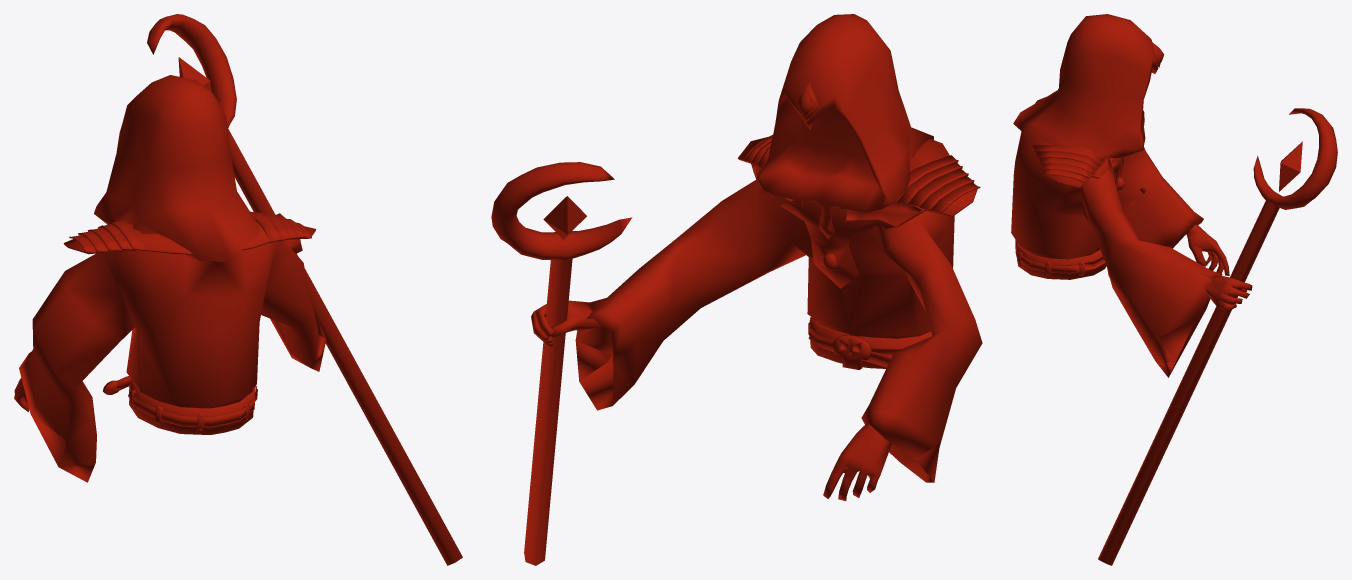
The model's file is top_000045.obj.
3 views of the same model, side by side, from view 1: azimuth 30°, elevation 25°; view 2: azimuth 150°, elevation 25°; view 3: azimuth 270°, elevation 25° (orthographic). The views are drawn at different scales.
Visible parts, largest first — view 1: LowPoly_Warlock.000_Plane.005; view 2: LowPoly_Warlock.000_Plane.005; view 3: LowPoly_Warlock.000_Plane.005.
Boxes of the visible parts, bbox=[...] form: LowPoly_Warlock.000_Plane.005: bbox=[14, 14, 462, 565]; LowPoly_Warlock.000_Plane.005: bbox=[491, 14, 982, 565]; LowPoly_Warlock.000_Plane.005: bbox=[1011, 14, 1337, 565].
Bounding box in the file's own units: 1.47 × 1.86 × 1.24.
